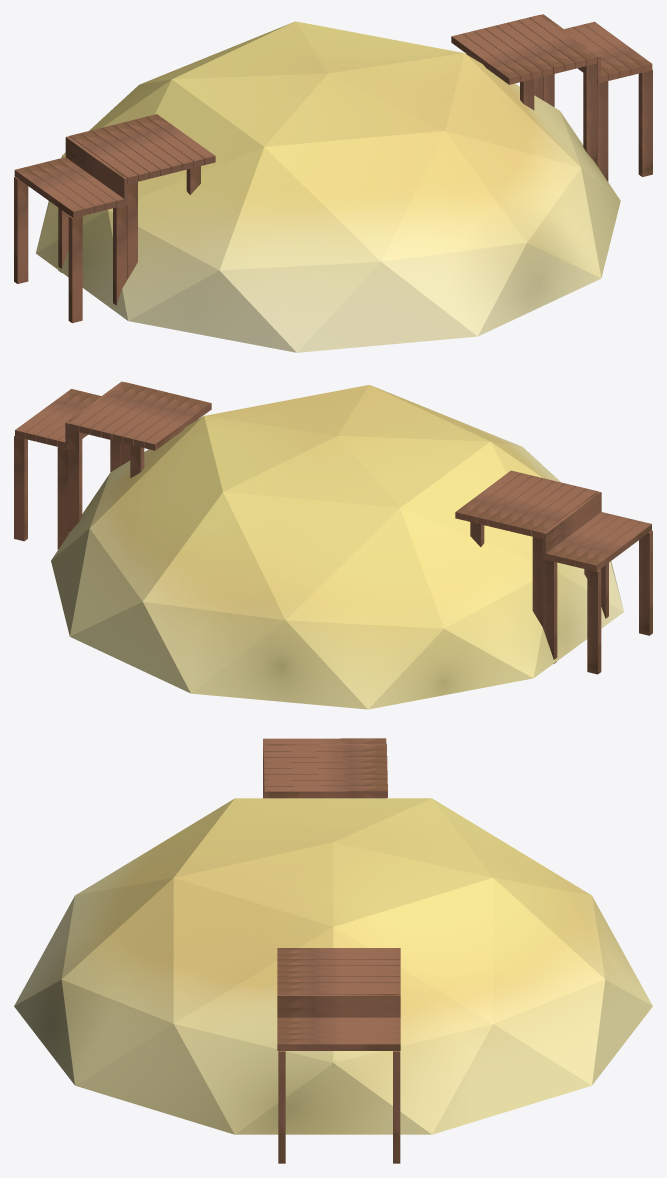
Rendered from Island.fbx.
3 renders of one model, top to bottom at view 1: azimuth 30°, elevation 25°; view 2: azimuth 150°, elevation 25°; view 3: azimuth 270°, elevation 25°, orthographic. The views are drawn at different scales.
Parts seen in each view (by area): view 1: Icosphere, Plane.001_Plane.025, Plane.022_Plane.023; view 2: Icosphere, Plane.001_Plane.025, Plane.022_Plane.023; view 3: Icosphere, Plane.022_Plane.023, Plane.001_Plane.025.
Part boxes in pixels (bbox=[...]): Icosphere: bbox=[35, 21, 620, 352]; Plane.001_Plane.025: bbox=[14, 114, 215, 323]; Plane.022_Plane.023: bbox=[451, 14, 652, 181]; Icosphere: bbox=[51, 385, 623, 709]; Plane.001_Plane.025: bbox=[455, 470, 652, 674]; Plane.022_Plane.023: bbox=[14, 381, 211, 549]; Icosphere: bbox=[14, 798, 652, 1134]; Plane.022_Plane.023: bbox=[277, 948, 400, 1163]; Plane.001_Plane.025: bbox=[263, 738, 387, 798].
Size of the model in its own units: 902 by 227 by 793.
